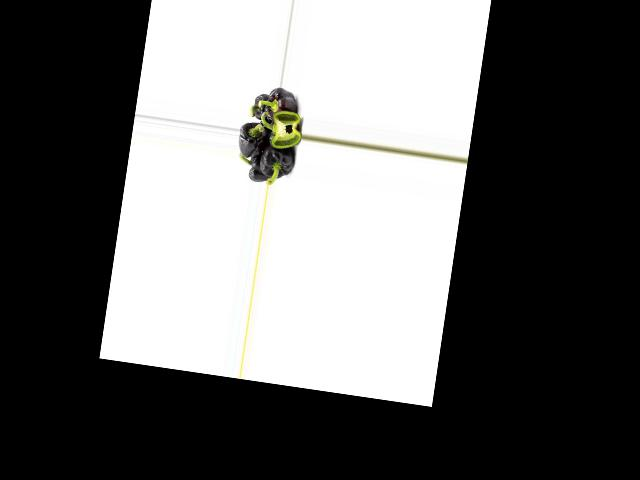bell_pepper: (262, 86, 297, 130)
